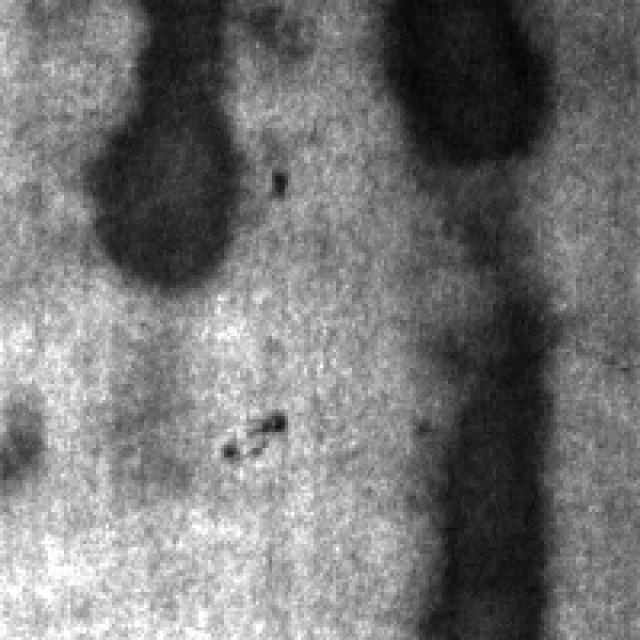patches: (410, 249, 560, 636), (84, 0, 246, 291), (358, 0, 557, 186)
